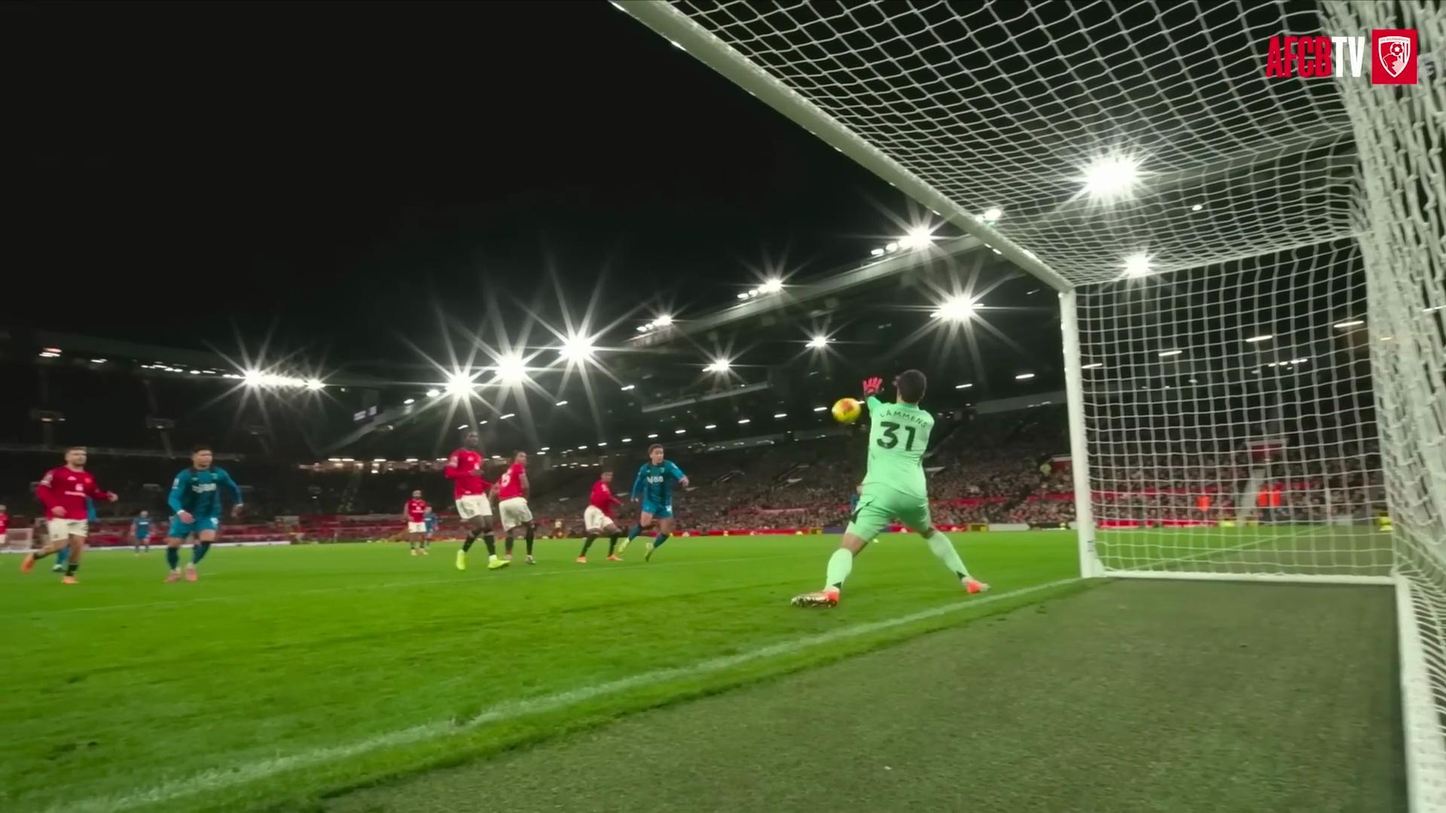football: (831, 397, 862, 422)
player: (792, 370, 987, 606), (21, 446, 116, 583), (166, 444, 243, 581), (444, 431, 508, 569), (618, 444, 688, 560), (494, 451, 535, 564), (577, 471, 621, 562), (404, 490, 429, 556), (130, 510, 151, 554), (423, 506, 438, 554), (32, 516, 48, 550), (0, 504, 9, 541)
